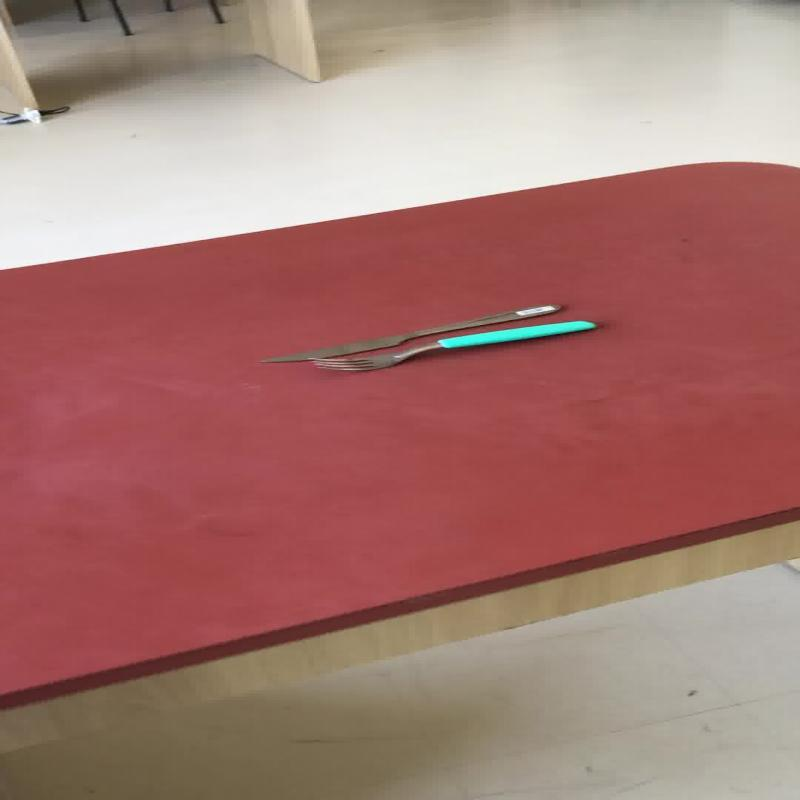fork: (308, 318, 596, 372)
knife: (256, 302, 560, 364)
